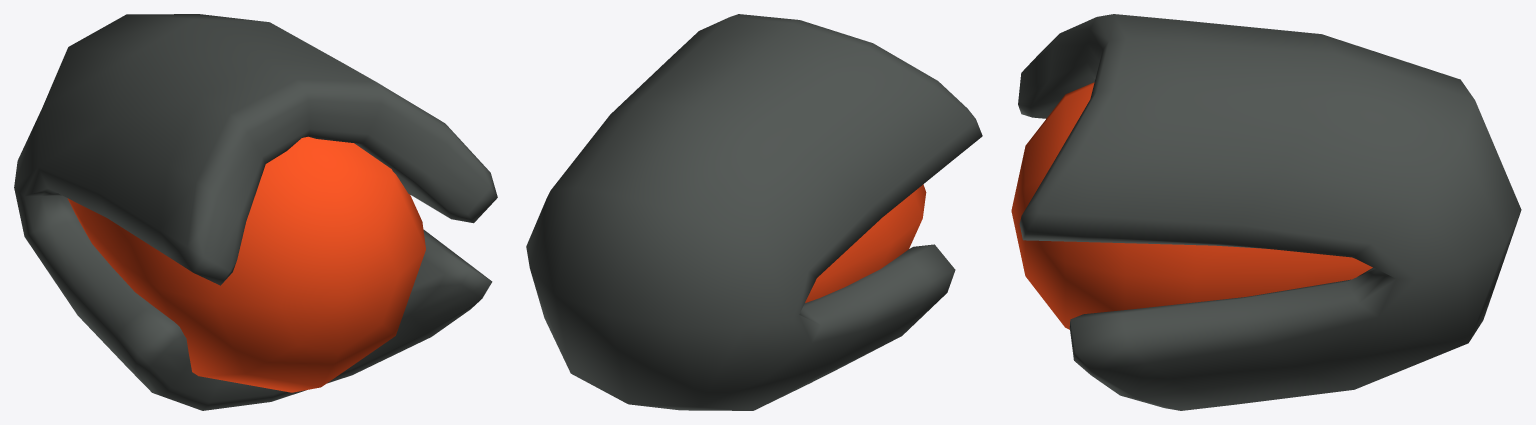
The model's file is xsens_LeftSecondDP.dae.
3 views of the same model, side by side, from view 1: azimuth 30°, elevation 25°; view 2: azimuth 150°, elevation 25°; view 3: azimuth 270°, elevation 25° (orthographic). The views are drawn at different scales.
Parts seen in each view (by area): view 1: LeftSecondDP; view 2: LeftSecondDP; view 3: LeftSecondDP.
Boxes of the visible parts, x1,y1,x2,y2 form: LeftSecondDP: (14,14,497,410); LeftSecondDP: (526,14,982,410); LeftSecondDP: (1011,14,1521,410).
Bounding box in the file's own units: 0.0157 × 0.0203 × 0.0154.
